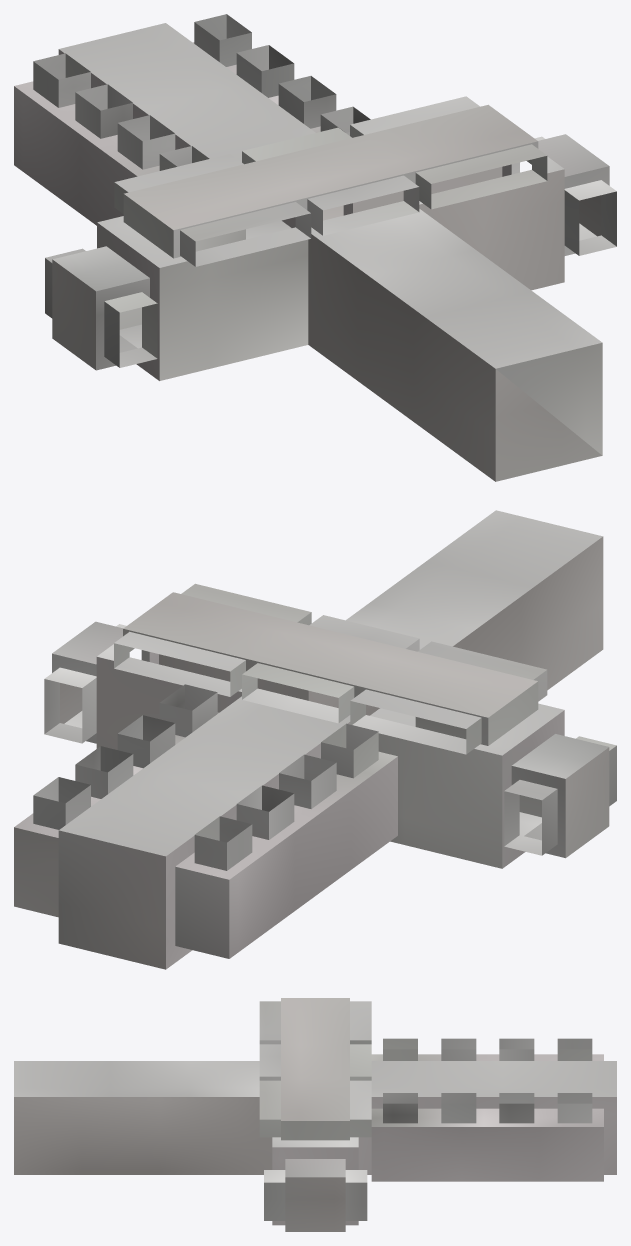
The model's file is hall5.obj.
The picture shows the model from 3 angles, top to bottom: view 1: azimuth 30°, elevation 25°; view 2: azimuth 150°, elevation 25°; view 3: azimuth 270°, elevation 25°; orthographic projection. The views are drawn at different scales.
Parts seen in each view (by area): view 1: Piano.020_Piano.029; view 2: Piano.020_Piano.029; view 3: Piano.020_Piano.029.
Part boxes in pixels (box(x1,y1,x2,y2)): Piano.020_Piano.029: box(14, 14, 616, 481); Piano.020_Piano.029: box(14, 510, 616, 969); Piano.020_Piano.029: box(14, 998, 616, 1231).
Size of the model in its own units: 399 by 105 by 588.
